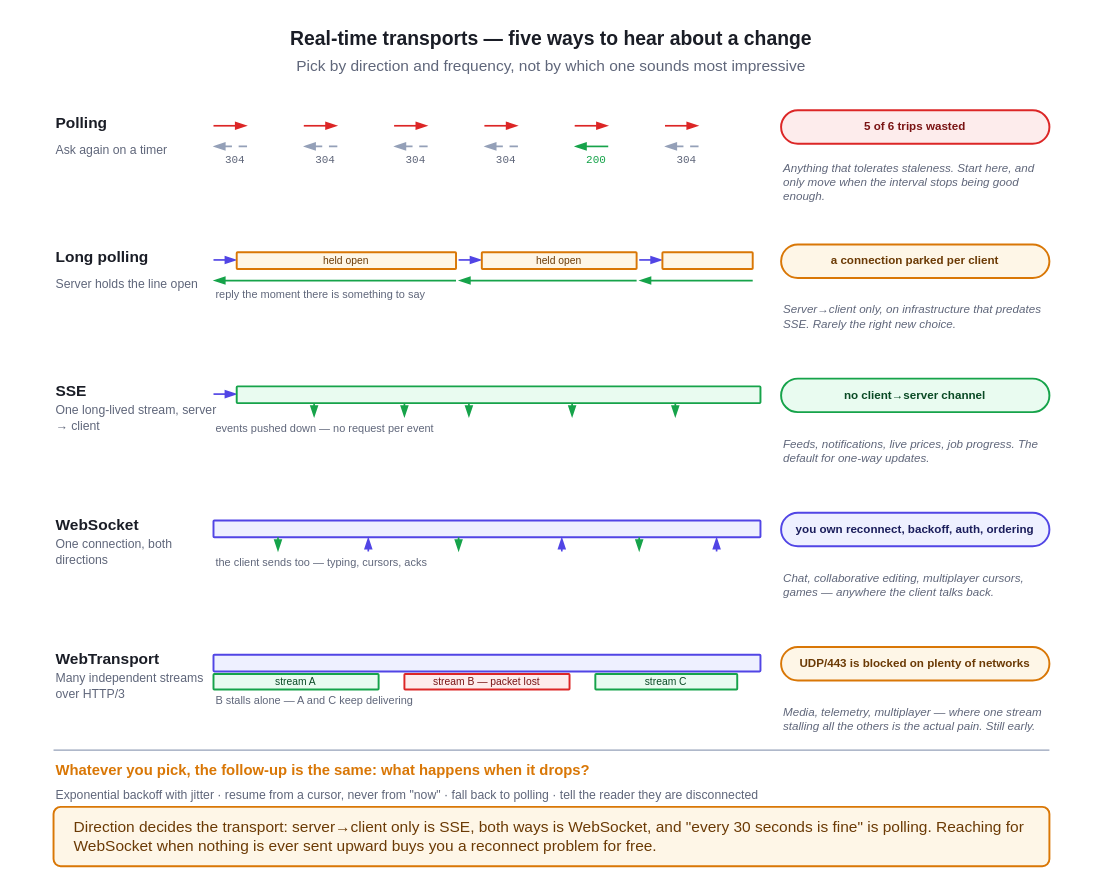
Image size: 1102x889. Some labels were removed from this diagram. The centre of each missing label's shape, as x and y in pixels:
HTTP/3 over QUIC — streams and datagrams, both ways: point (486, 662)
text/event-stream — stays open, reconnects itself: point (498, 394)
ws:// — full duplex: point (486, 528)
